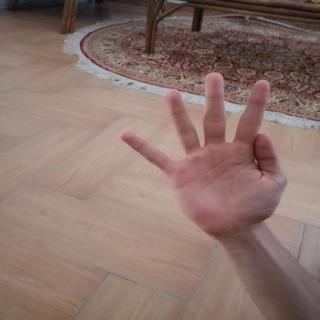SHEEN: (109, 62, 299, 247)
